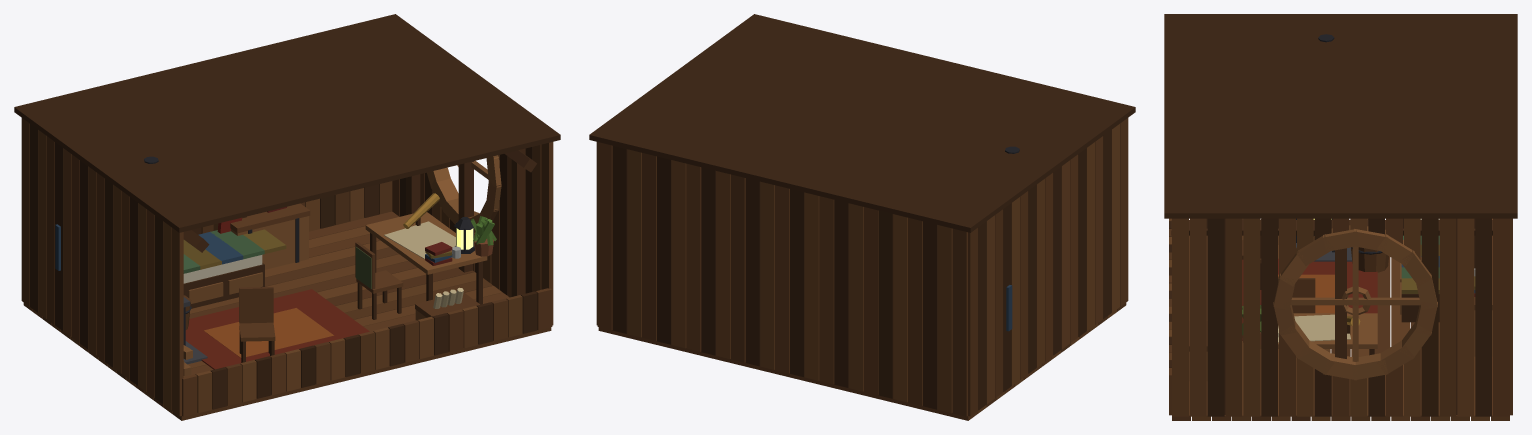
The model's file is cabin_b.glb.
3 renders of one model, left to right at view 1: azimuth 30°, elevation 25°; view 2: azimuth 150°, elevation 25°; view 3: azimuth 270°, elevation 25°, orthographic. The views are drawn at different scales.
Parts seen in each view (by area): view 1: cabin_b_ceiling, cabin_b_rug, cabin_b_rug_inner, cabin_b_wallL_00_0, cabin_b_post_R0, cabin_b_wallR_00_0, cabin_b_chart_table_top, cabin_b_chest_body, cabin_b_wallL_01_0, cabin_b_wallL_03_0, cabin_b_wallL_06_0, cabin_b_wallL_10_0 (+75 smaller); view 2: cabin_b_ceiling, cabin_b_wallB_00_0, cabin_b_wallB_06_0, cabin_b_wallB_14_0, cabin_b_wallB_09_0, cabin_b_wallB_15_0, cabin_b_wallB_23_0, cabin_b_wallB_01_0, cabin_b_wallB_05_0, cabin_b_wallB_18_0, cabin_b_wallB_19_0, cabin_b_wallB_24_0 (+34 smaller); view 3: cabin_b_ceiling, cabin_b_wallR_02_0, cabin_b_wallR_04_0, cabin_b_wallR_16_0, cabin_b_wallR_03_0, cabin_b_wallR_15_0, cabin_b_wallR_00_0, cabin_b_wallR_01_0, cabin_b_wallR_17_0, cabin_b_wallR_18_0, cabin_b_wallR_05_0, cabin_b_wallR_14_0 (+45 smaller).
Part boxes in pixels (bbox=[...]): cabin_b_ceiling: bbox=[14, 14, 560, 232]; cabin_b_rug: bbox=[185, 289, 369, 369]; cabin_b_rug_inner: bbox=[203, 308, 333, 357]; cabin_b_wallL_00_0: bbox=[171, 227, 183, 416]; cabin_b_post_R0: bbox=[511, 148, 525, 296]; cabin_b_wallR_00_0: bbox=[541, 142, 553, 325]; cabin_b_chart_table_top: bbox=[365, 212, 487, 274]; cabin_b_chest_body: bbox=[213, 216, 308, 269]; cabin_b_wallL_01_0: bbox=[163, 221, 171, 410]; cabin_b_wallL_03_0: bbox=[146, 209, 154, 397]; cabin_b_wallL_06_0: bbox=[121, 191, 129, 379]; cabin_b_wallL_10_0: bbox=[88, 166, 96, 355]; cabin_b_ceiling: bbox=[589, 14, 1135, 232]; cabin_b_wallB_00_0: bbox=[952, 228, 967, 416]; cabin_b_wallB_06_0: bbox=[863, 207, 878, 395]; cabin_b_wallB_14_0: bbox=[745, 178, 760, 366]; cabin_b_wallB_09_0: bbox=[819, 196, 834, 384]; cabin_b_wallB_15_0: bbox=[730, 174, 745, 362]; cabin_b_wallB_23_0: bbox=[612, 146, 627, 333]; cabin_b_wallB_01_0: bbox=[937, 225, 952, 413]; cabin_b_wallB_05_0: bbox=[878, 210, 893, 398]; cabin_b_wallB_18_0: bbox=[686, 163, 701, 351]; cabin_b_wallB_19_0: bbox=[671, 160, 686, 348]; cabin_b_wallB_24_0: bbox=[597, 142, 612, 330]; cabin_b_ceiling: bbox=[1164, 14, 1517, 218]; cabin_b_wallR_02_0: bbox=[1207, 218, 1224, 416]; cabin_b_wallR_04_0: bbox=[1243, 218, 1260, 416]; cabin_b_wallR_16_0: bbox=[1457, 218, 1474, 416]; cabin_b_wallR_03_0: bbox=[1225, 218, 1242, 416]; cabin_b_wallR_15_0: bbox=[1439, 218, 1456, 416]; cabin_b_wallR_00_0: bbox=[1172, 218, 1188, 416]; cabin_b_wallR_01_0: bbox=[1190, 218, 1206, 416]; cabin_b_wallR_17_0: bbox=[1475, 218, 1491, 416]; cabin_b_wallR_18_0: bbox=[1493, 218, 1509, 416]; cabin_b_wallR_05_0: bbox=[1261, 218, 1277, 416]; cabin_b_wallR_14_0: bbox=[1421, 218, 1438, 416].
Bounding box in the file's own units: 6.42 × 3.18 × 4.8.
